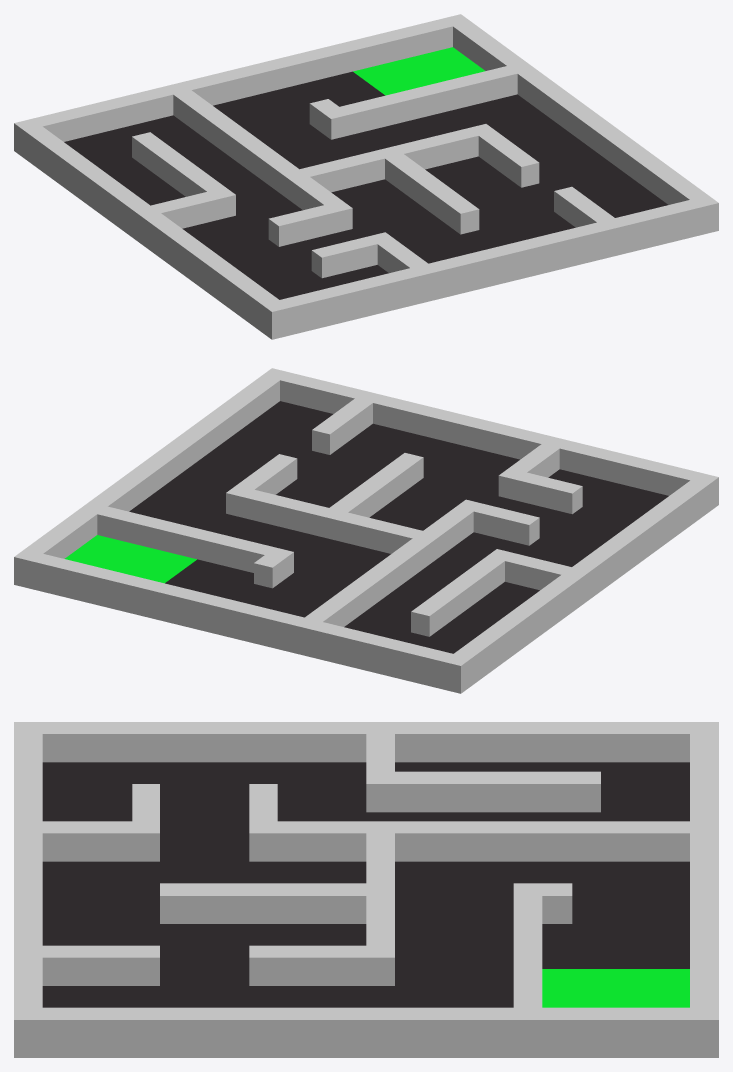
File: mazeportal 1.fbx
3 renders of one model, top to bottom at view 1: azimuth 30°, elevation 25°; view 2: azimuth 150°, elevation 25°; view 3: azimuth 270°, elevation 25°, orthographic. The views are drawn at different scales.
Parts seen in each view (by area): view 1: Plane.004; view 2: Plane.004; view 3: Plane.004.
Part boxes in pixels (x1,y1,x2,y2): Plane.004: [14, 14, 718, 339]; Plane.004: [14, 368, 718, 693]; Plane.004: [14, 722, 718, 1057].
Size of the model in its own units: 1860 by 111 by 1860.
